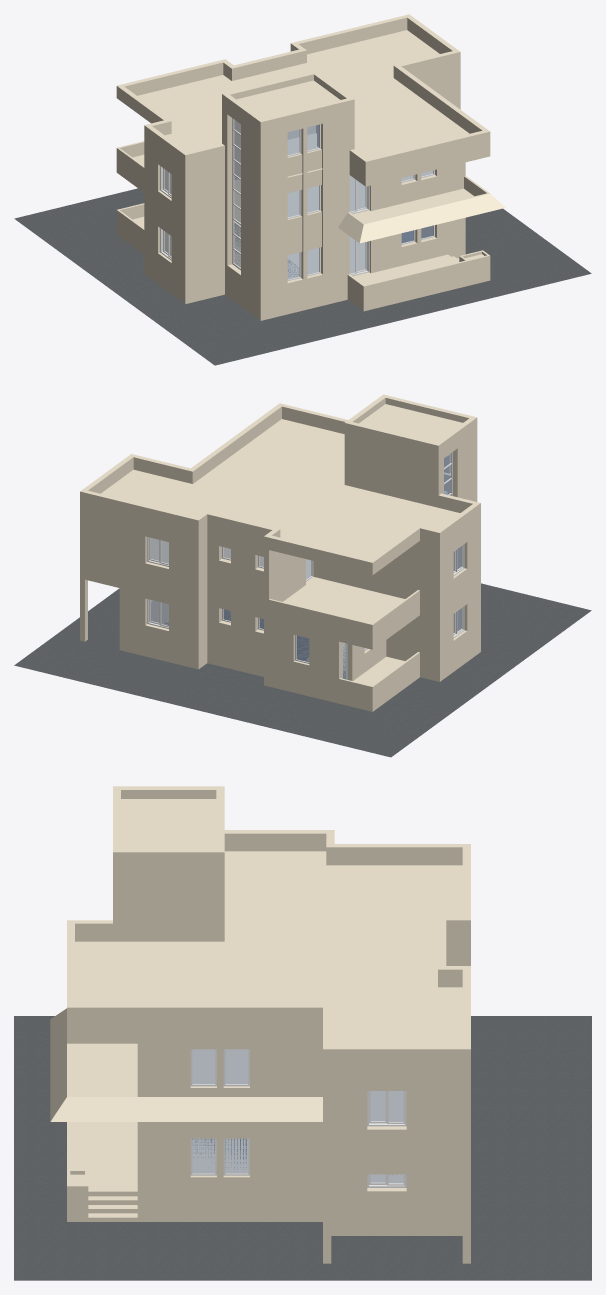
3 renders of one model, top to bottom at view 1: azimuth 30°, elevation 25°; view 2: azimuth 150°, elevation 25°; view 3: azimuth 270°, elevation 25°, orthographic. The views are drawn at different scales.
Parts seen in each view (by area): view 1: 22240, Root Node, 20529, 21532, Component#2 (×2), 24540; view 2: 22240, Root Node, 21532, 20529, Component#3 (×2); view 3: 22240, Root Node, 21532, 20529, Component#1 (×4), Component#3.
Boxes of the visible parts, left/top/right/bottom form: 22240: left=116, top=14, right=490, bottom=186; Root Node: left=14, top=188, right=591, bottom=365; 20529: left=116, top=200, right=490, bottom=320; 21532: left=116, top=64, right=505, bottom=246; Component#2 (×2): left=349, top=175, right=369, bottom=276; 24540: left=232, top=118, right=240, bottom=270; 22240: left=80, top=394, right=480, bottom=575; Root Node: left=14, top=583, right=591, bottom=757; 21532: left=80, top=472, right=480, bottom=649; 20529: left=80, top=541, right=480, bottom=711; Component#3 (×2): left=147, top=537, right=168, bottom=628; 22240: left=67, top=786, right=470, bottom=1067; Root Node: left=14, top=1016, right=591, bottom=1280; 21532: left=50, top=865, right=470, bottom=1174; 20529: left=67, top=1122, right=470, bottom=1263; Component#1 (×4): left=190, top=1049, right=249, bottom=1175; Component#3: left=367, top=1091, right=406, bottom=1126.
Bounding box in the file's own units: 19.07 × 9.6 × 17.6.
573 materials, 1 textured.
